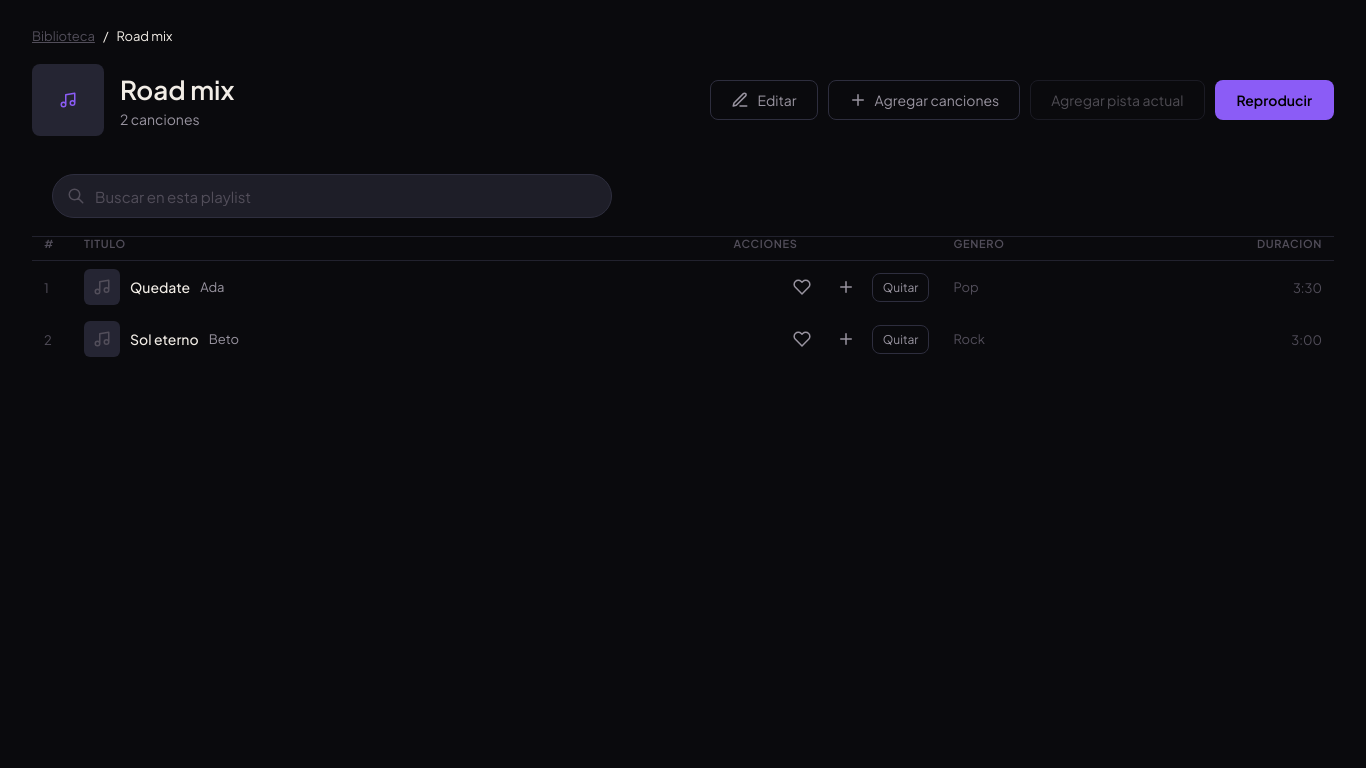
Test: LibraryPage › closes the playlist edit dialog when saving fails
The width and height of the screenshot is (1366, 768).
Click the button "Editar" at coordinates (764, 100), box [710,80,818,120]
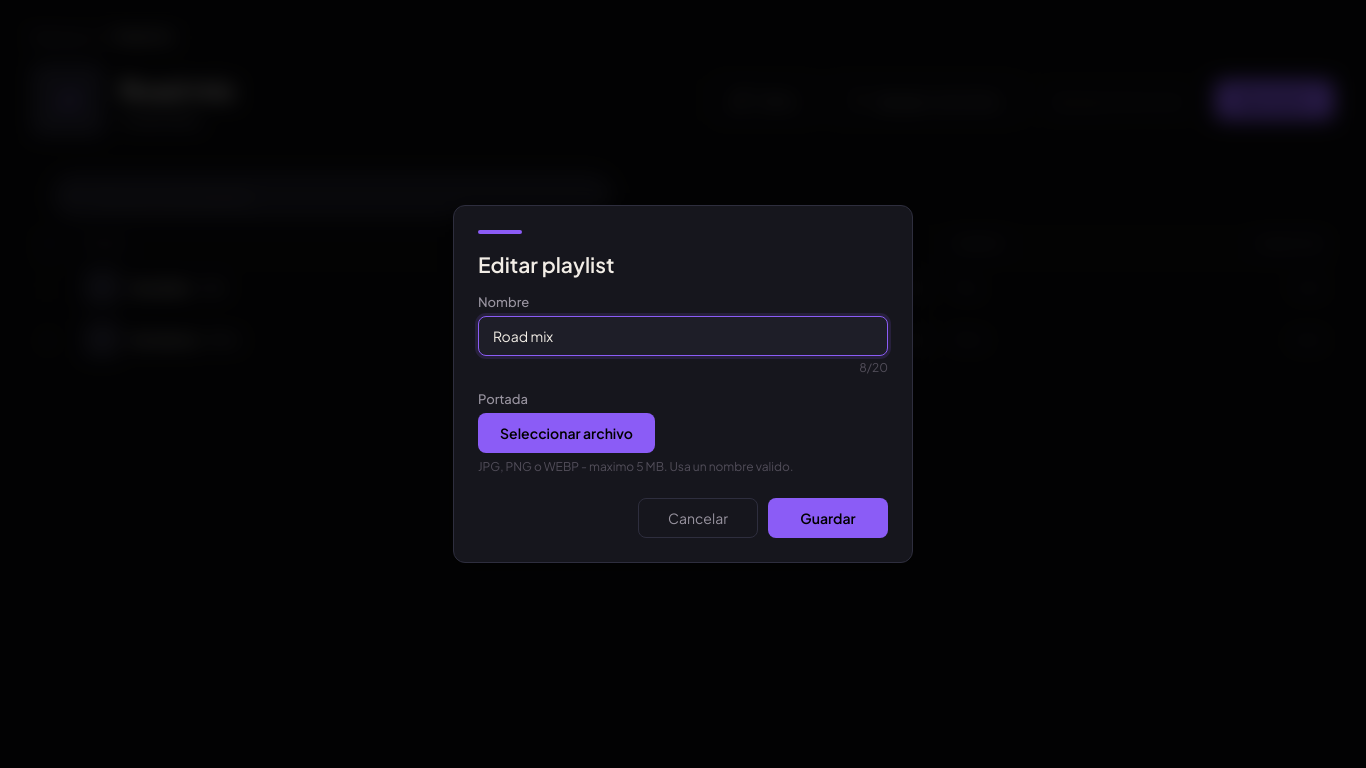
Click the button "Guardar" at coordinates (828, 518), box [768,498,888,538]
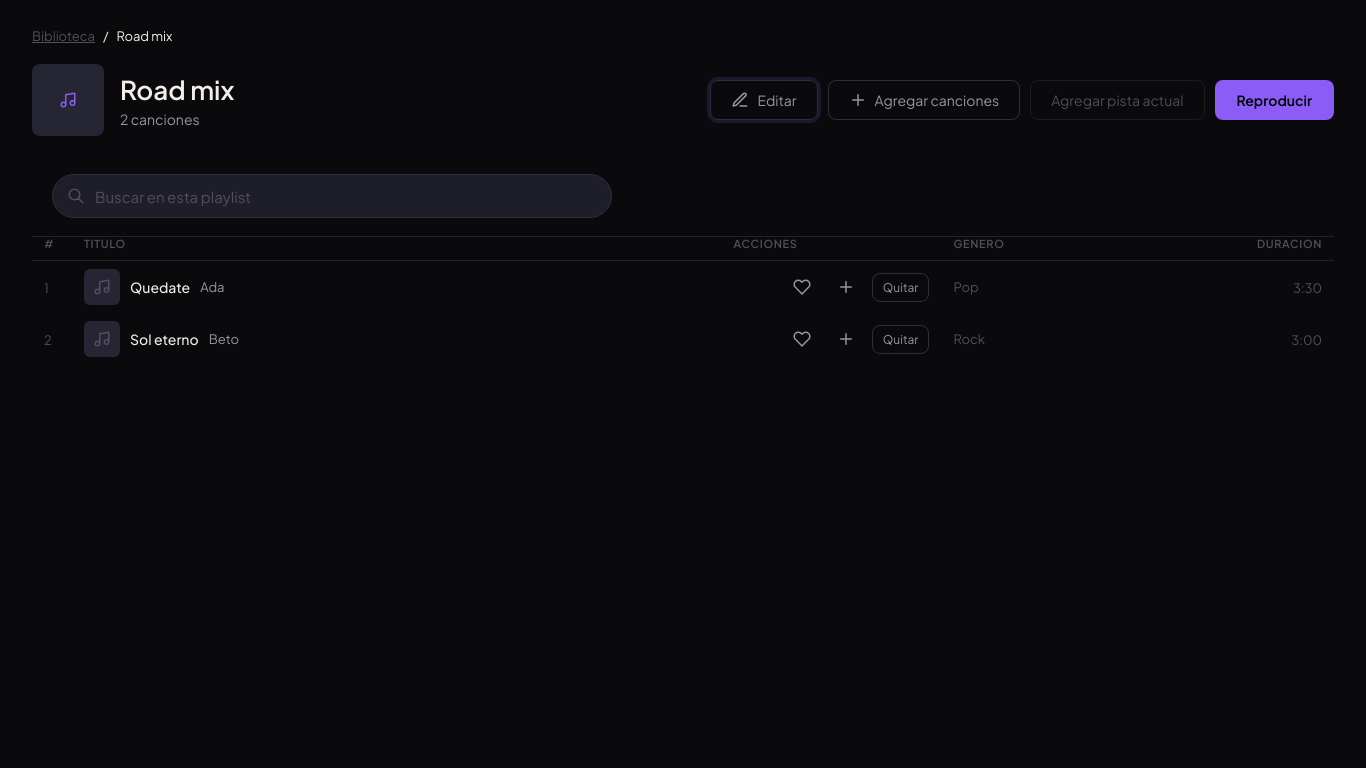
Result: the dialog is gone
